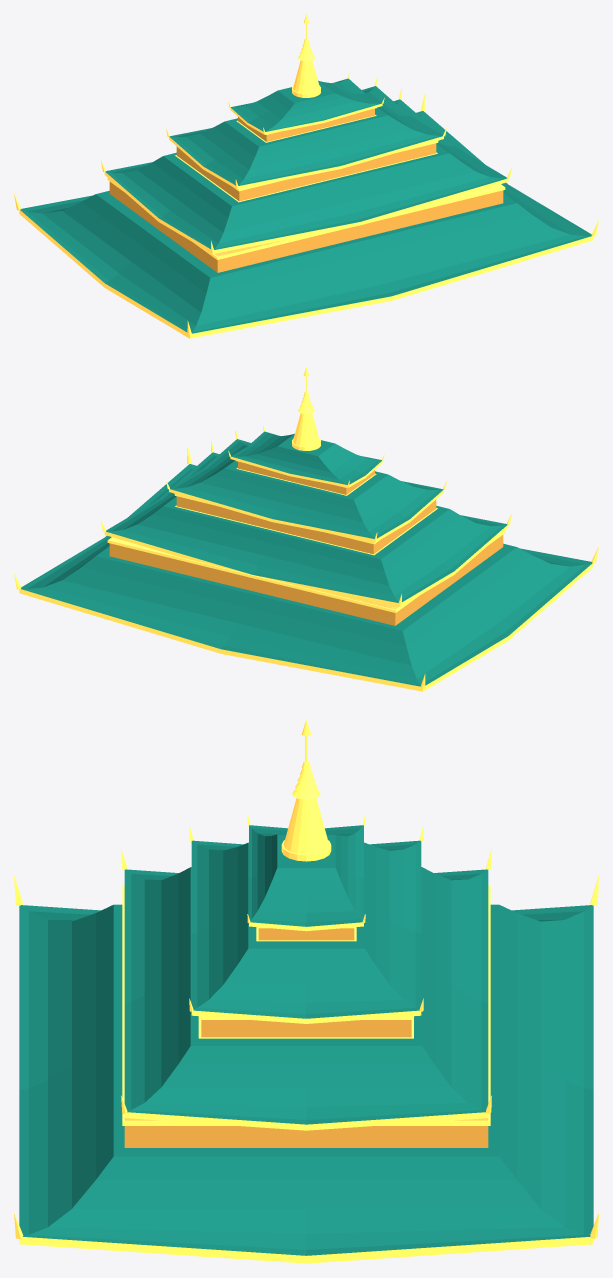
Rendered from hall-roof.glb.
3 views of the same model, one above another, from view 1: azimuth 30°, elevation 25°; view 2: azimuth 150°, elevation 25°; view 3: azimuth 270°, elevation 25° (orthographic). The views are drawn at different scales.
Parts seen in each view (by area): view 1: hall_roof; view 2: hall_roof; view 3: hall_roof.
Part boxes in pixels (x1,y1,x2,y2): hall_roof: (14, 14, 598, 338); hall_roof: (14, 367, 598, 691); hall_roof: (14, 720, 598, 1263).
Bounding box in the file's own units: 83.51 × 43.5 × 61.12.
